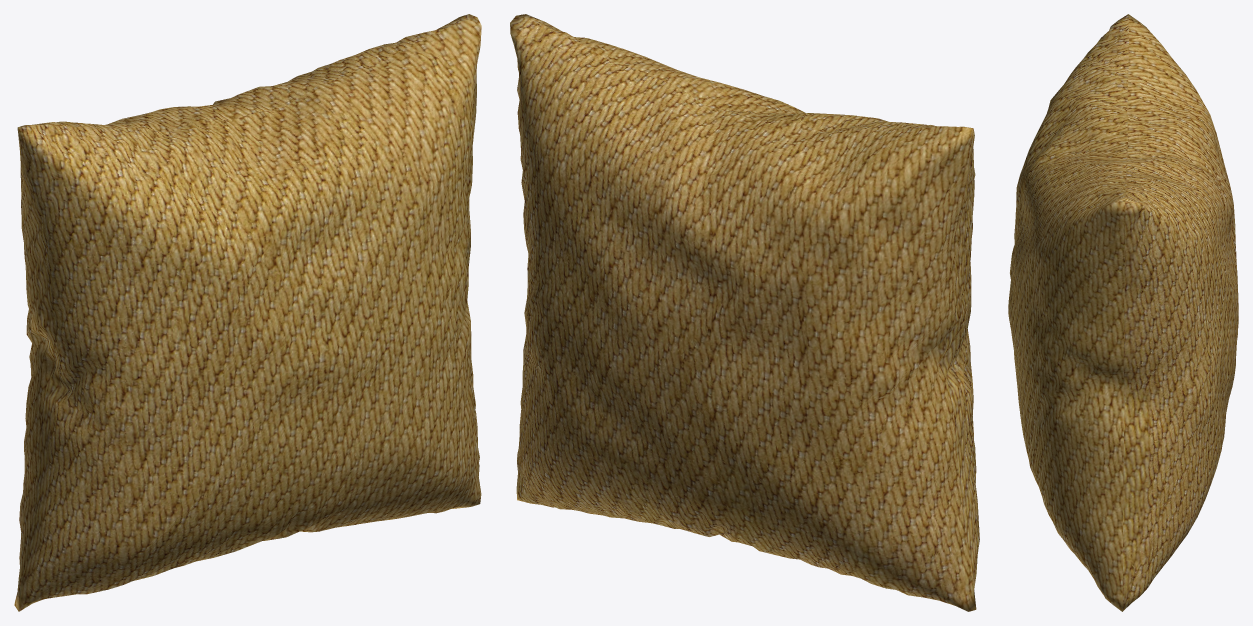
File: yellow_pillow.glb
3 views of the same model, side by side, from view 1: azimuth 30°, elevation 25°; view 2: azimuth 150°, elevation 25°; view 3: azimuth 270°, elevation 25° (orthographic). The views are drawn at different scales.
Parts seen in each view (by area): view 1: Cube; view 2: Cube; view 3: Cube.
Boxes of the visible parts, x1=… form: Cube: x1=14, y1=14, x2=481, y2=611; Cube: x1=510, y1=14, x2=979, y2=611; Cube: x1=1008, y1=14, x2=1238, y2=611.
Size of the model in its own units: 0.383 by 0.3865 by 0.1972.
Materials: 1 (1 with a texture image).
